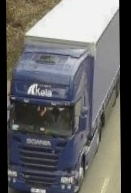truck: (6, 0, 121, 193)
